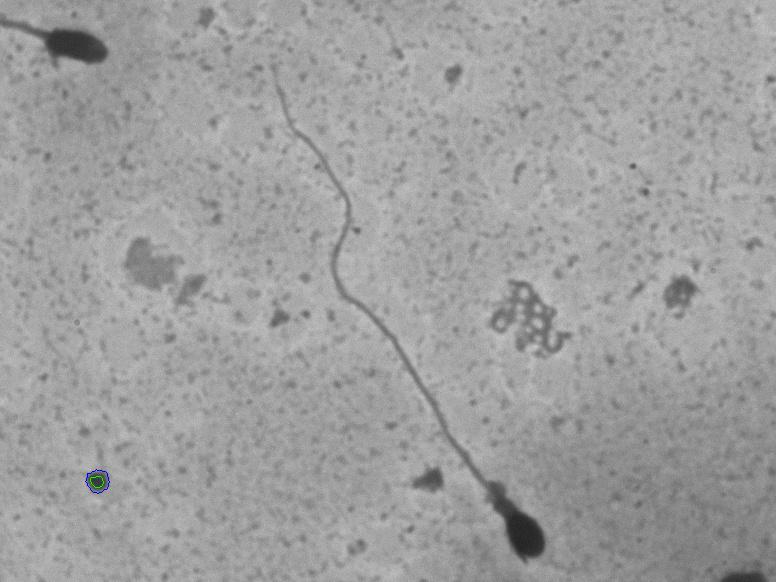Abnormal: (254, 57, 586, 563)
